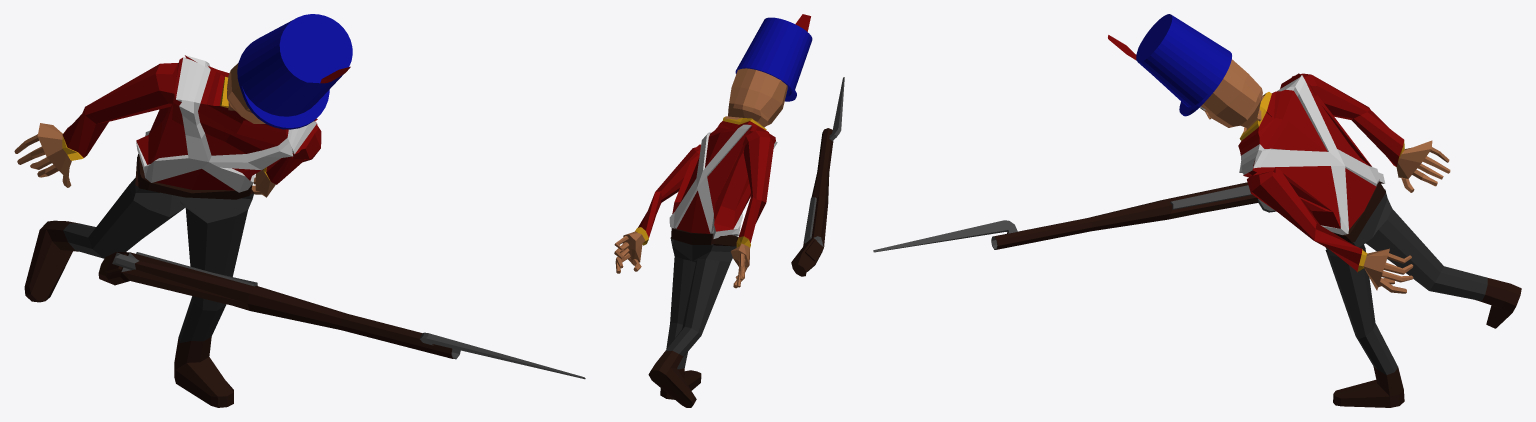
The model's file is Frame2.obj.
The picture shows the model from 3 angles, left to right: view 1: azimuth 30°, elevation 25°; view 2: azimuth 150°, elevation 25°; view 3: azimuth 270°, elevation 25°; orthographic projection. The views are drawn at different scales.
Parts seen in each view (by area): view 1: {Man}_Circle, {Mesket}_Cube.001; view 2: {Man}_Circle, {Mesket}_Cube.001; view 3: {Man}_Circle, {Mesket}_Cube.001.
Boxes of the visible parts, x1=… form: {Man}_Circle: x1=14, y1=14, x2=352, y2=407; {Mesket}_Cube.001: x1=98, y1=252, x2=585, y2=379; {Man}_Circle: x1=614, y1=14, x2=812, y2=407; {Mesket}_Cube.001: x1=791, y1=77, x2=844, y2=276; {Man}_Circle: x1=1108, y1=14, x2=1521, y2=407; {Mesket}_Cube.001: x1=873, y1=182, x2=1276, y2=252.
Bounding box in the file's own units: 6.93 × 13.15 × 20.6.
